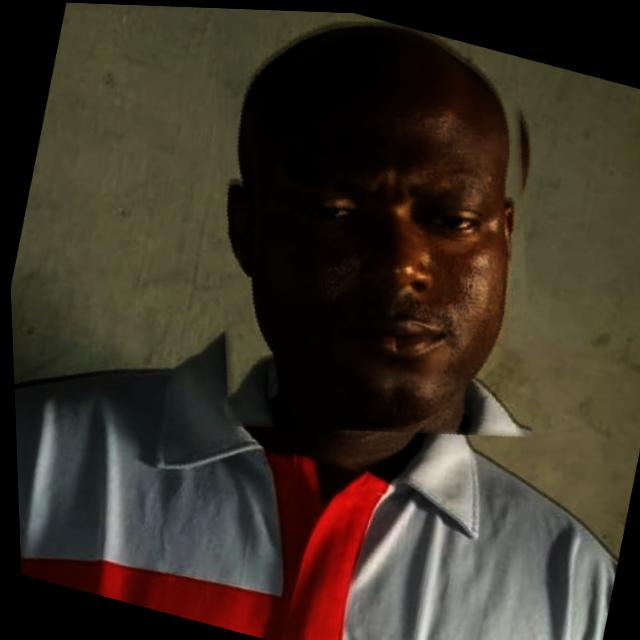sad: (146, 4, 593, 481)
